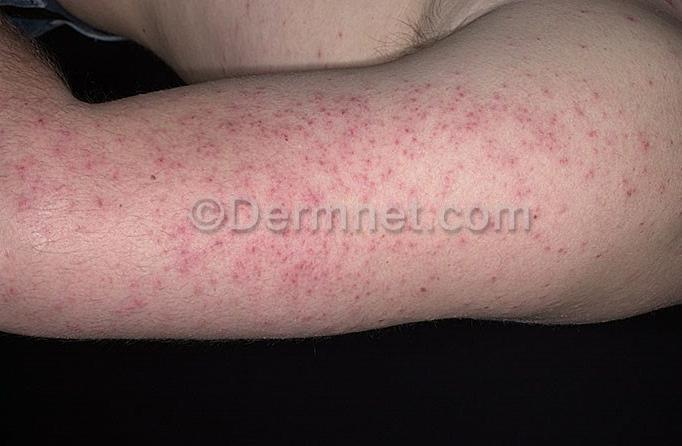edema 1: (0, 80, 673, 324)
eritema 1: (14, 91, 654, 307)
